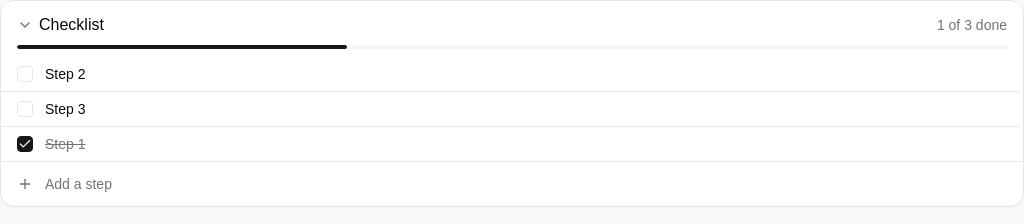
Test: AssignmentChecklist › toggles collapse state and persists to localStorage
The image size is (1024, 224).
Expected: the text "Step 2" is shown, [45, 66, 86, 82]
Click the button "Checklist" at (60, 25), box [17, 13, 104, 37]
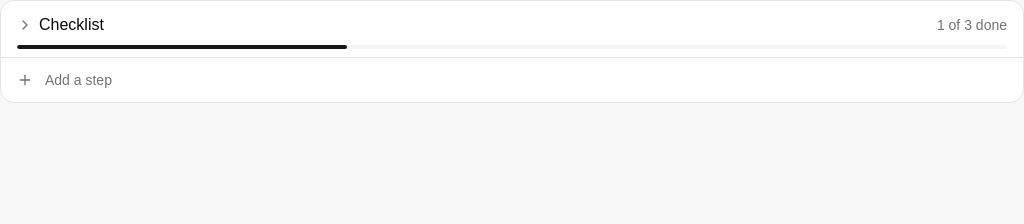
Expected: the text "1 of 3 done" is shown, [937, 15, 1007, 35]
Expected: the button "Checklist" is collapsed, [17, 13, 104, 37]
